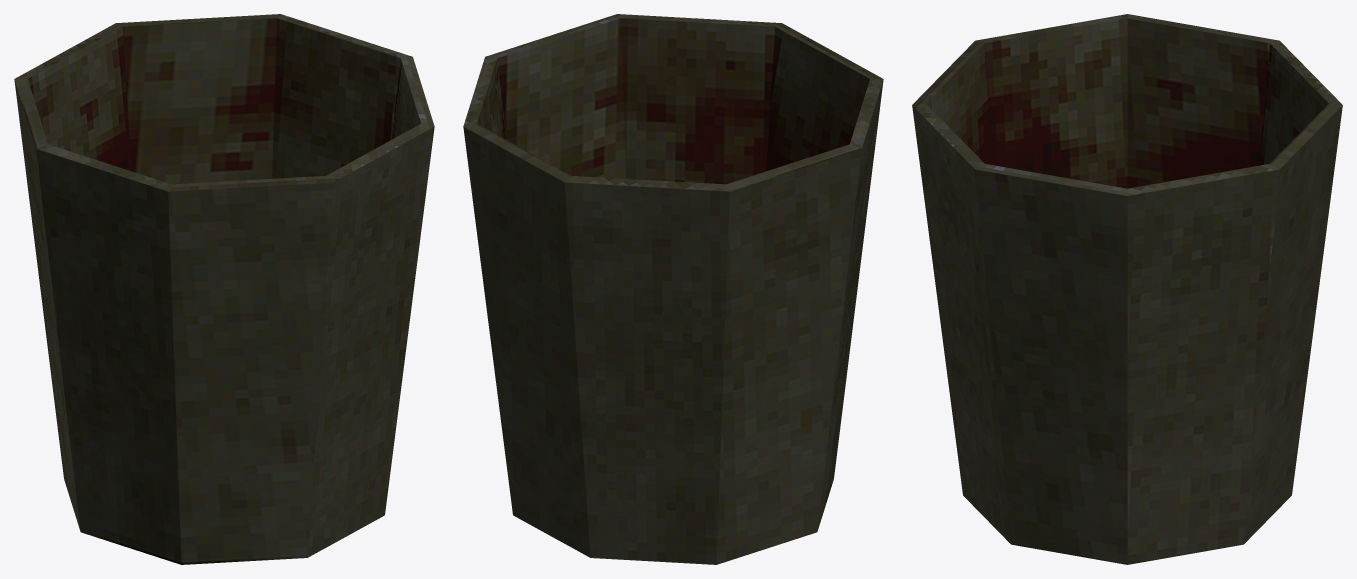
File: SM_TrashCan.fbx
The picture shows the model from 3 angles, left to right: view 1: azimuth 30°, elevation 25°; view 2: azimuth 150°, elevation 25°; view 3: azimuth 270°, elevation 25°; orthographic projection.
Visible parts, largest first — view 1: SM_TrashCan; view 2: SM_TrashCan; view 3: SM_TrashCan.
Boxes of the visible parts, box(x1,y1,x2,y2) form: SM_TrashCan: box(14, 14, 434, 564); SM_TrashCan: box(463, 14, 883, 564); SM_TrashCan: box(912, 14, 1342, 564).
Size of the model in its own units: 42.4 by 42.57 by 42.4.
